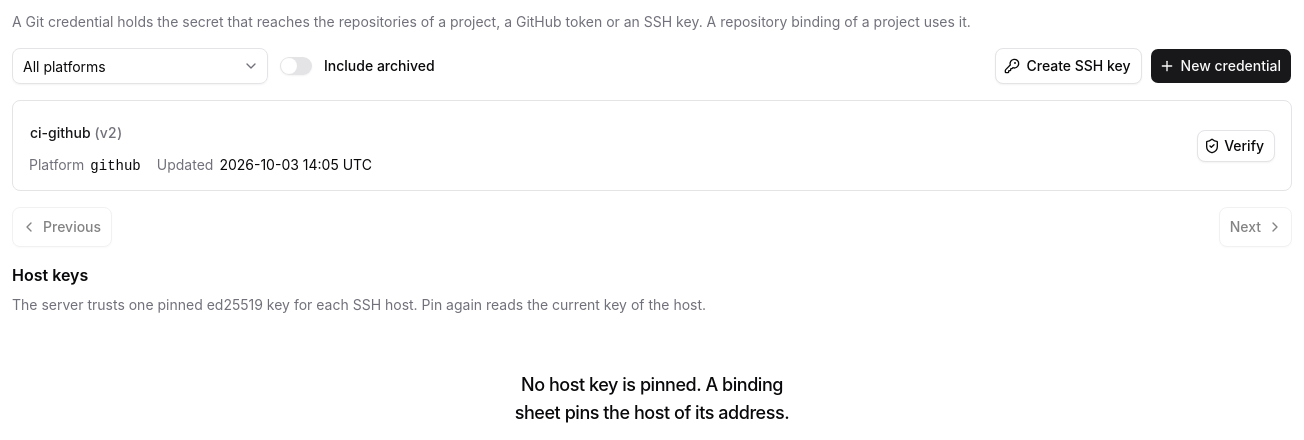
Scenario: CredentialsScreen › verifies a repository credential through the repository section
Step 1. Click the button with aria-label "Verify ci-github" → [1236, 146], box [1197,130,1275,162]
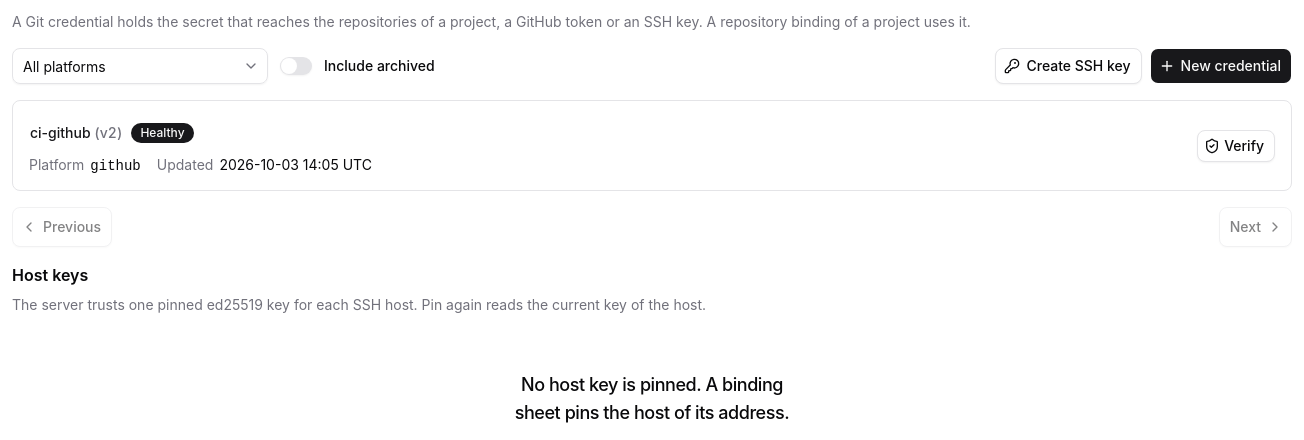
Check: the message reads "Healthy", box [140,125,185,140]
